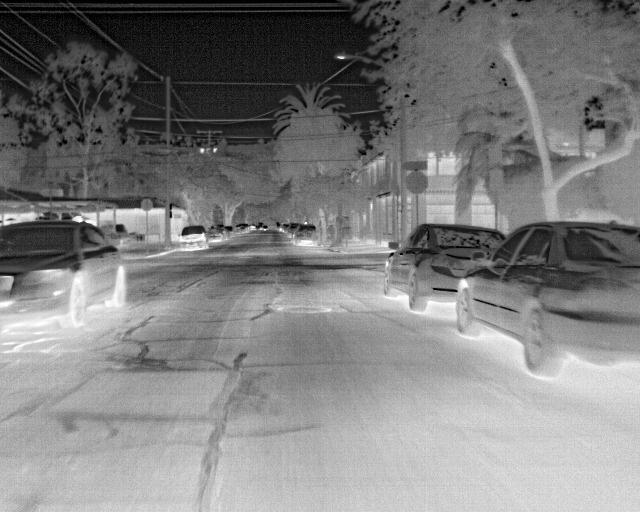bicycle: (454, 222, 639, 377), (0, 220, 128, 330), (382, 223, 507, 311), (178, 224, 208, 250), (292, 223, 319, 245), (285, 221, 302, 238), (208, 226, 227, 241), (233, 222, 252, 236), (223, 225, 235, 238)
